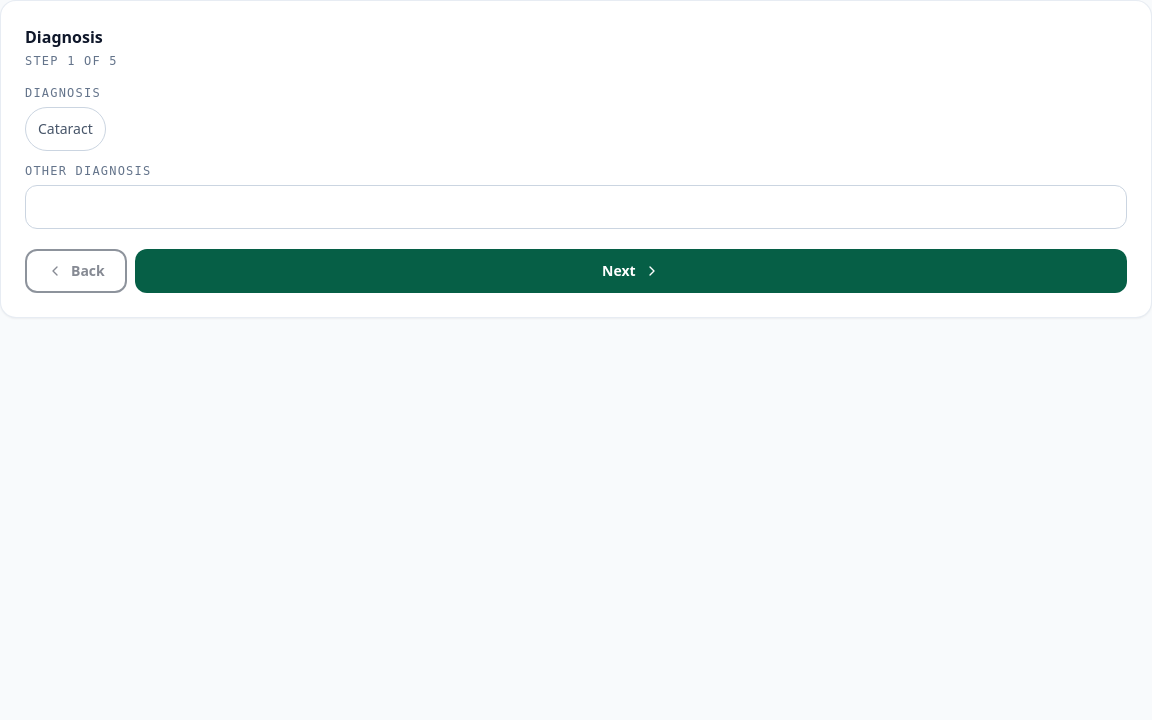
it: wizard rendering › the review step reads back the medicines and power that were picked
This screenshot has width=1152, height=720.
Step 1. Click the button "Next" → (631, 271), box [135,249,1127,293]
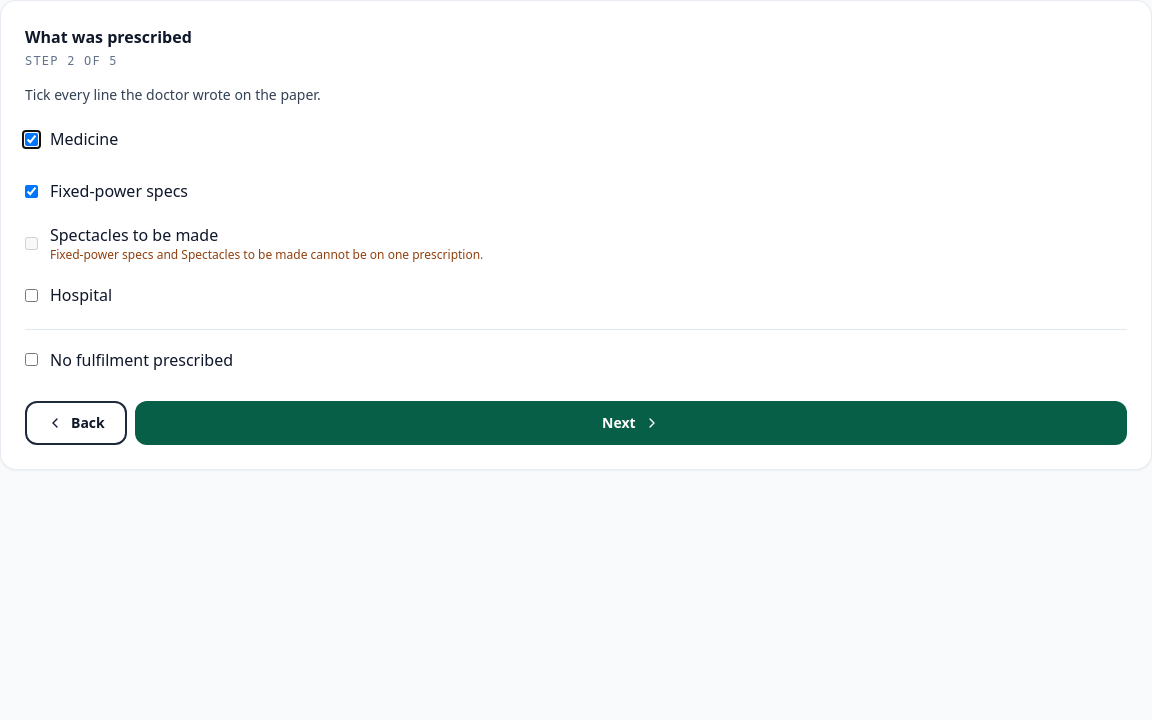
Step 2. Click the button "Next" → (631, 423), box [135,401,1127,445]
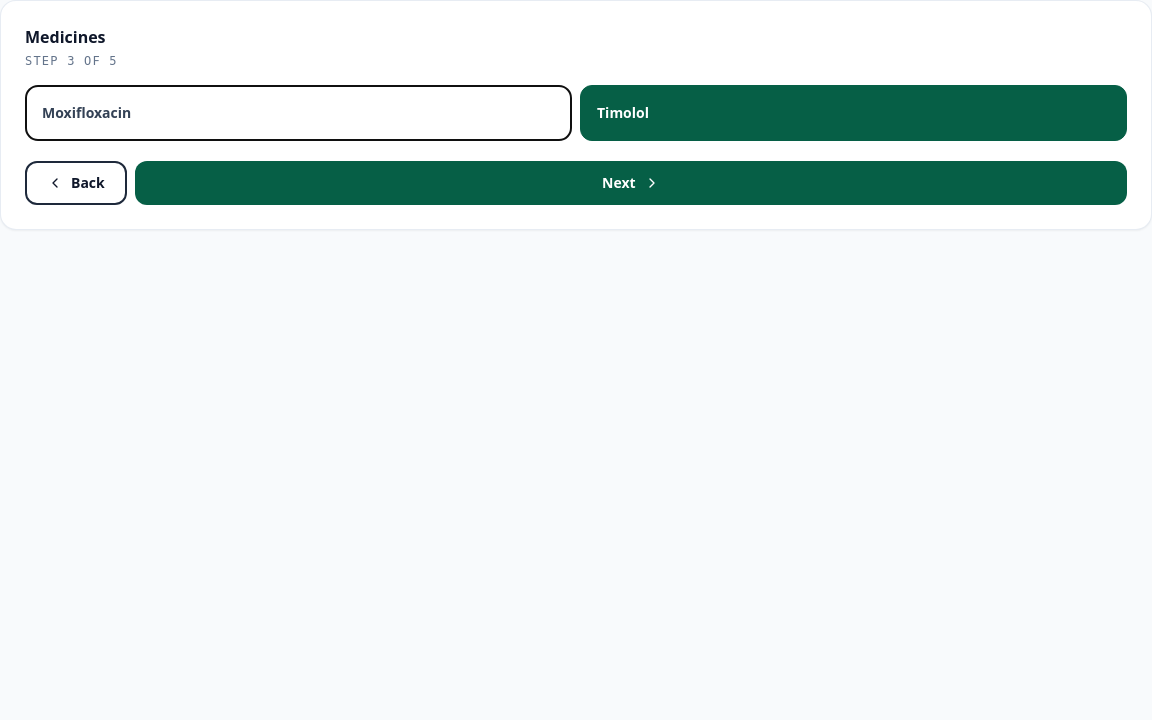
Step 3. Click the button "Next" → (631, 183), box [135,161,1127,205]
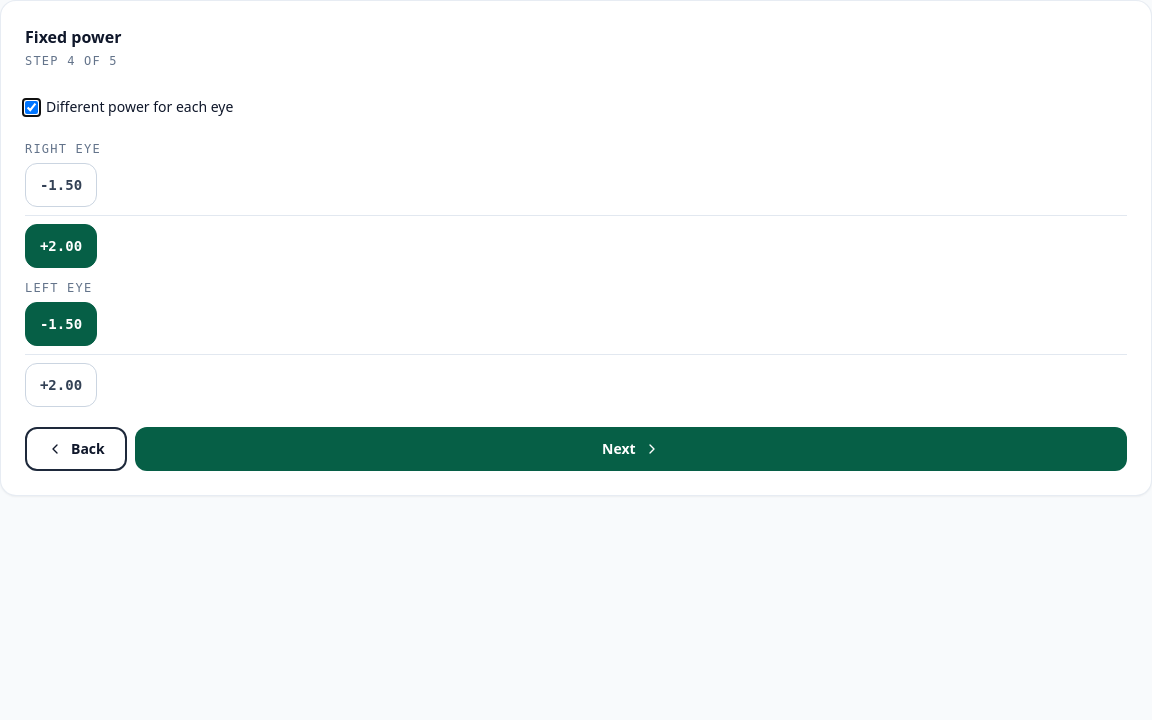
Step 4. Click the button "Next" → (631, 449), box [135,427,1127,471]
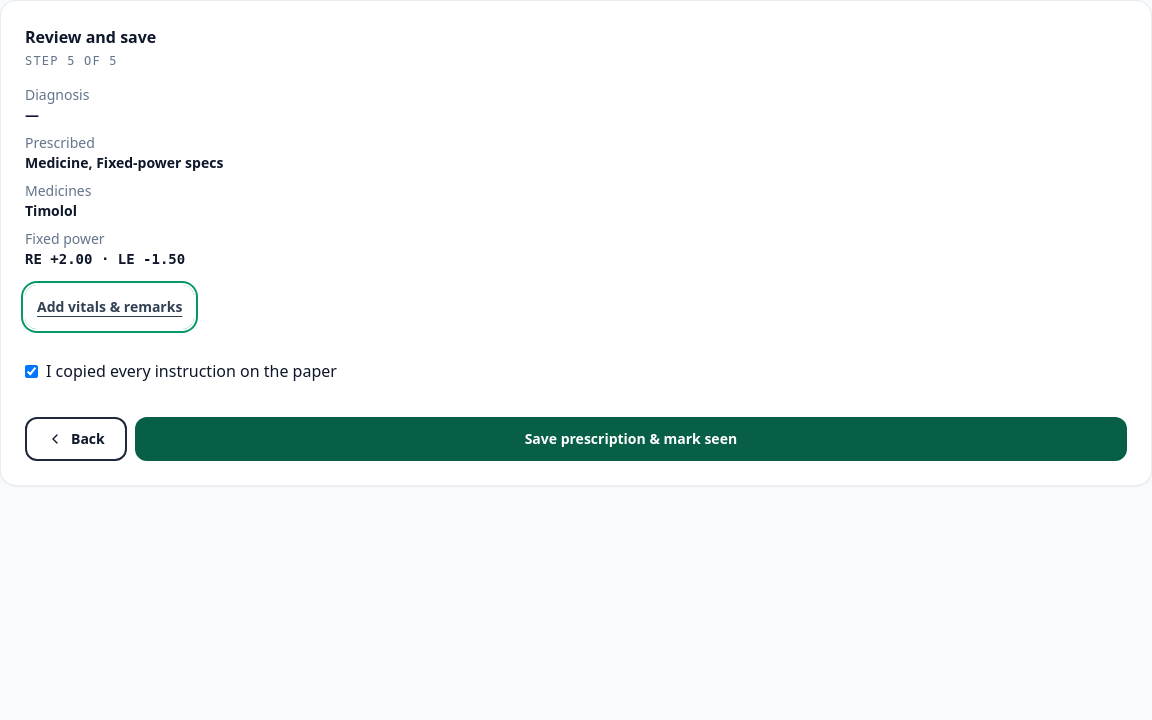
Result: the text "Timolol" is shown at [25,201,77,220]
Result: the text "RE +2.00 · LE -1.50" is shown at [25,251,185,267]
